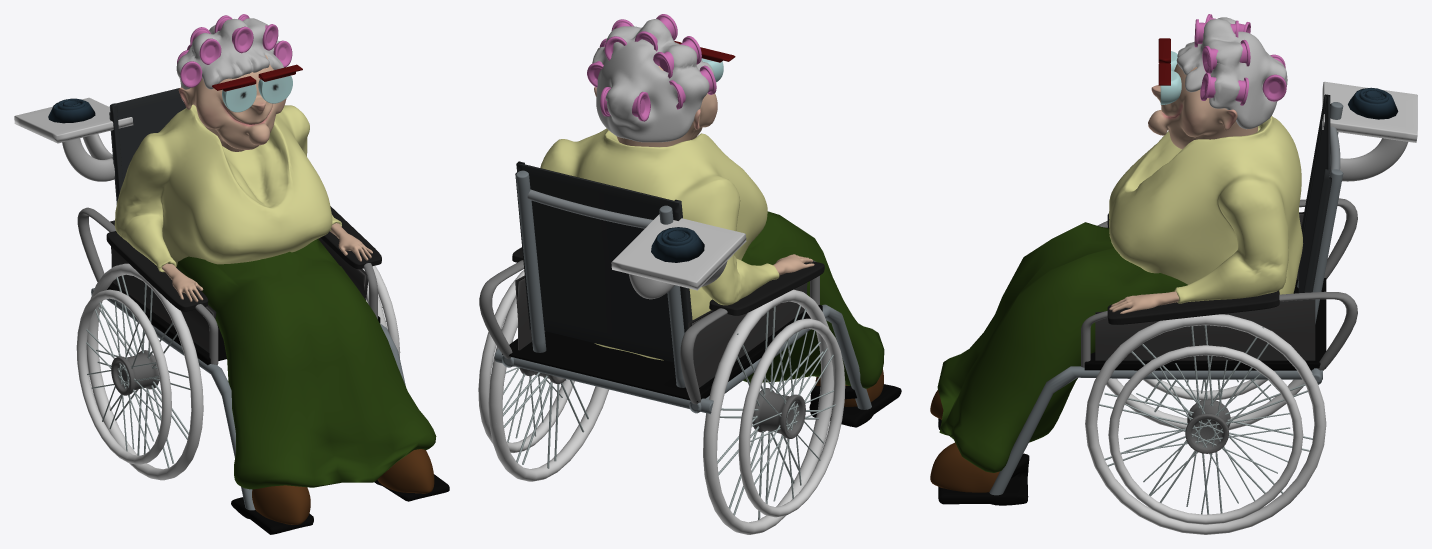
Rendered from MamieKalash (1).fbx.
The picture shows the model from 3 angles, left to right: view 1: azimuth 30°, elevation 25°; view 2: azimuth 150°, elevation 25°; view 3: azimuth 270°, elevation 25°; orthographic projection. The views are drawn at different scales.
Visible parts, largest first — view 1: MamieKalash; view 2: MamieKalash; view 3: MamieKalash.
Part boxes in pixels (x1,y1,x2,y2): MamieKalash: (14, 14, 449, 534); MamieKalash: (478, 14, 901, 534); MamieKalash: (930, 14, 1417, 534).
Bounding box in the file's own units: 2.88 × 4.71 × 4.48.
